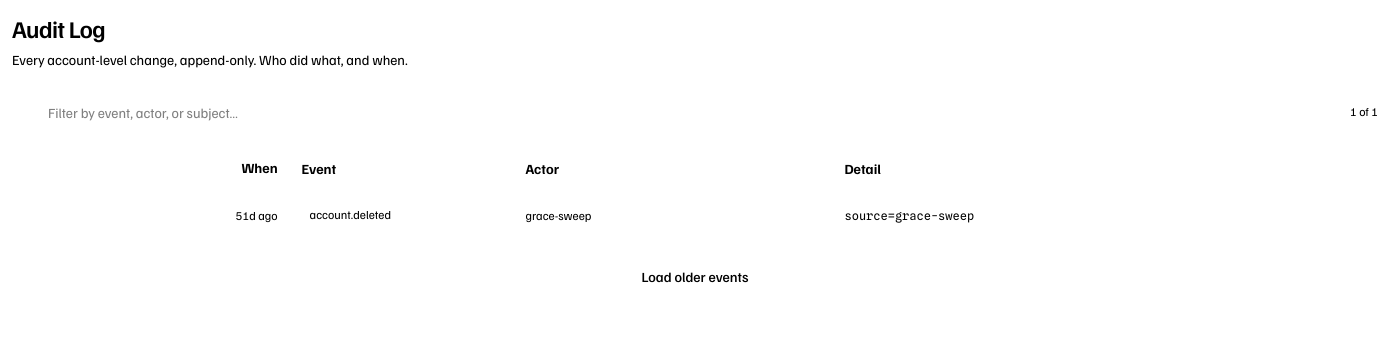
Test: keeps current audit entries visible when an older page fails
Click the button "Load older events": point(695, 277) [630,261,760,293]
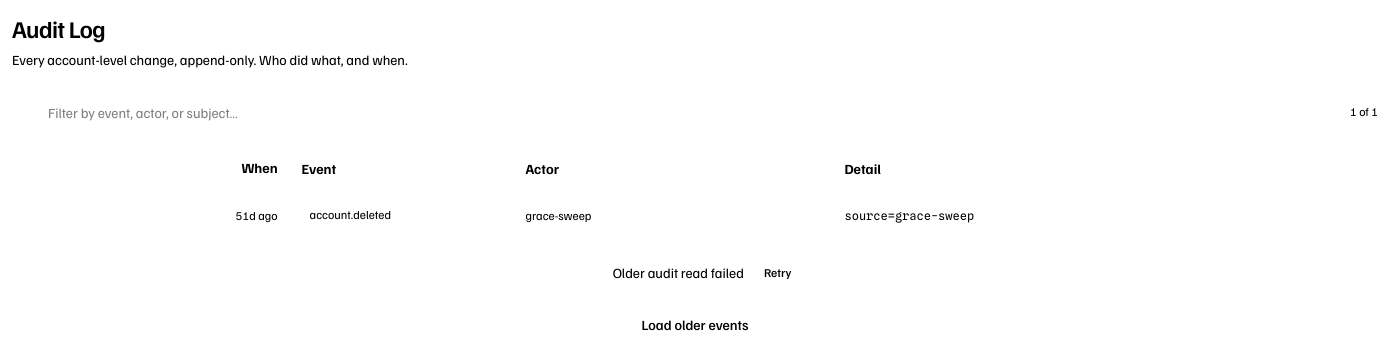
Expected: the text "account.deleted" is shown, [310,207,391,222]
Result: the message reads "Older audit read failed" at [613,264,744,281]
